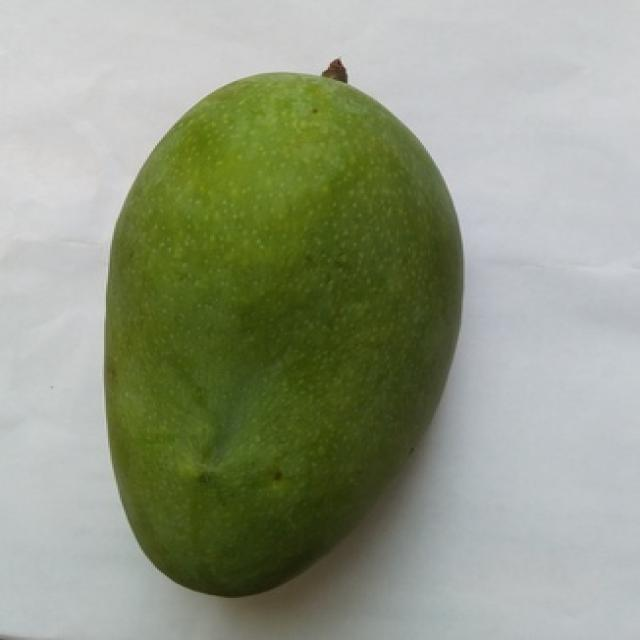Mango: (106, 73, 461, 595)
